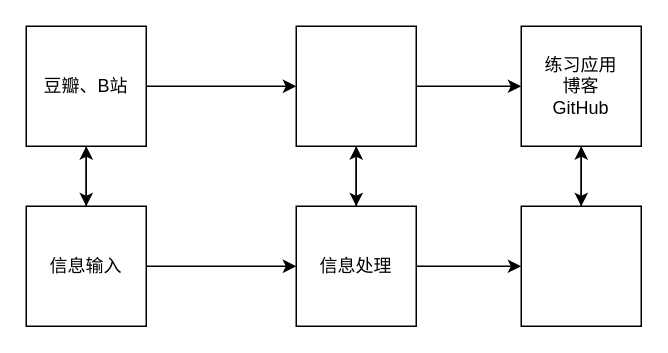
This 668x353 diagram has some shape labels left out. The box of each missing label's shape, as (x1, y1, x2, y2) in pixels:
四象限: (295, 25, 416, 146)
输出: (520, 205, 641, 326)
